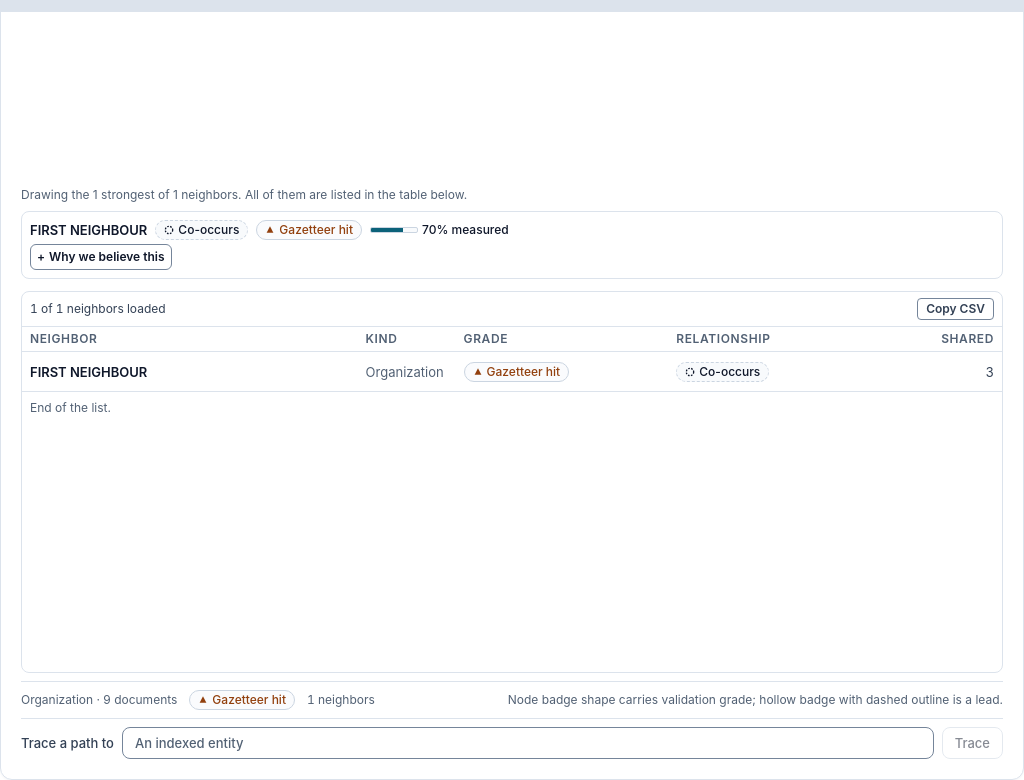
Test case: EntityGraph › reports an unknown target id as unknown, not as not connected
Type "entity-missing" into the field labelled "Trace a path to" at (528, 743), box [122,727,934,759]
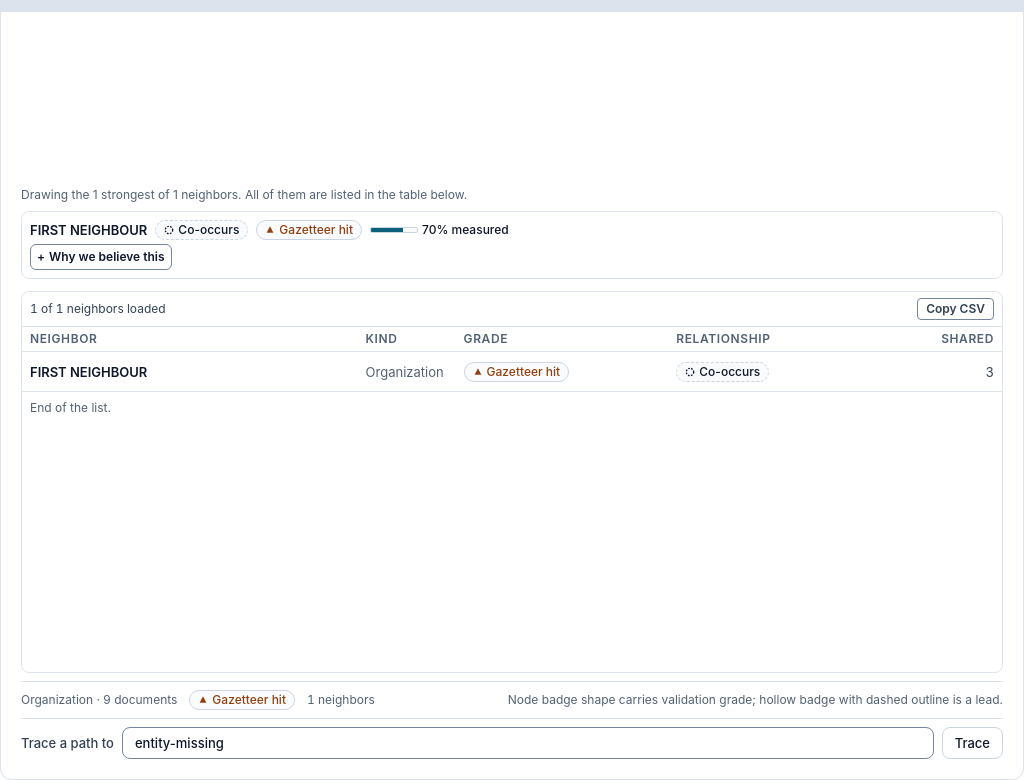
Submit the form from the button "Trace", box [942,727,1003,759]
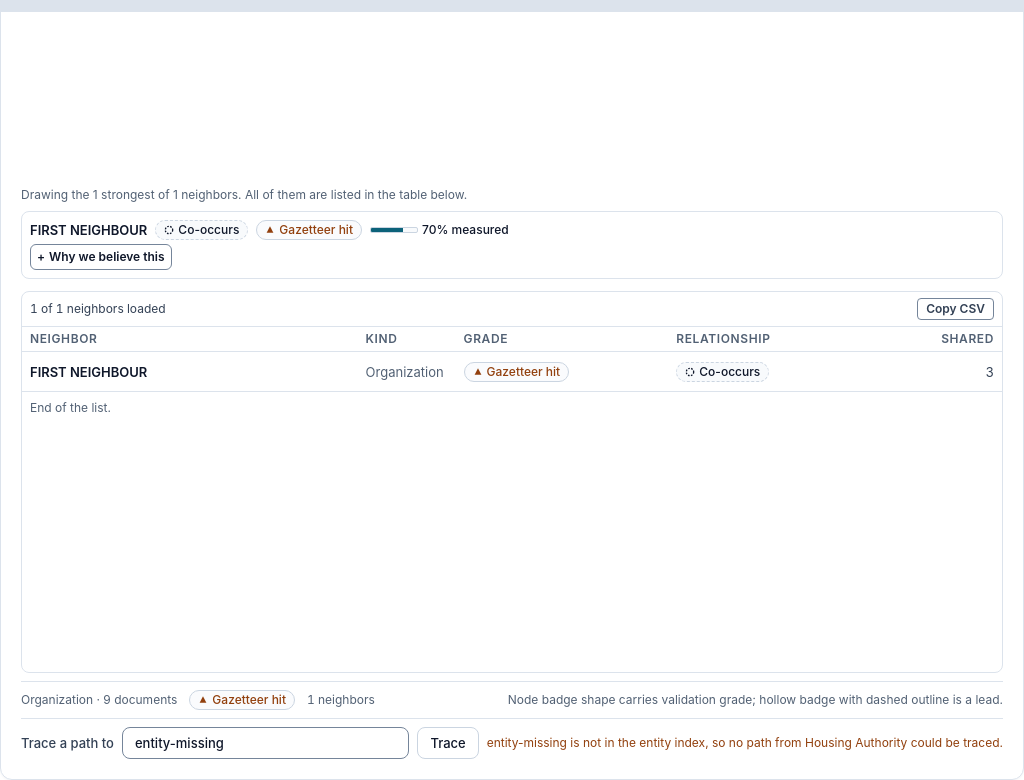
Now the text "entity-missing is not in the entity index" is shown, box [487,735,1003,751]
